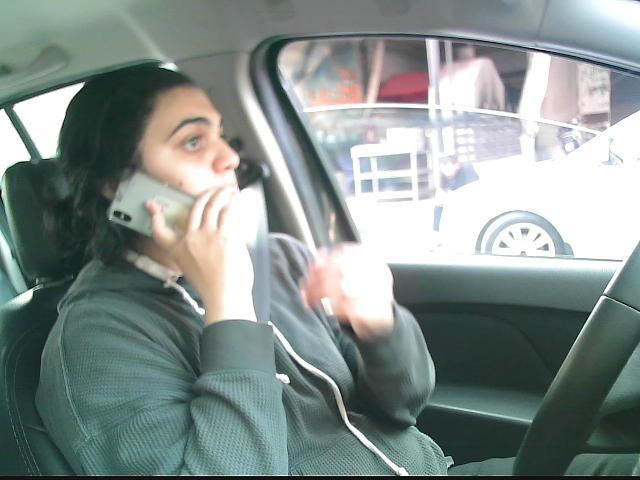PhoneUse: (107, 168, 238, 260)
